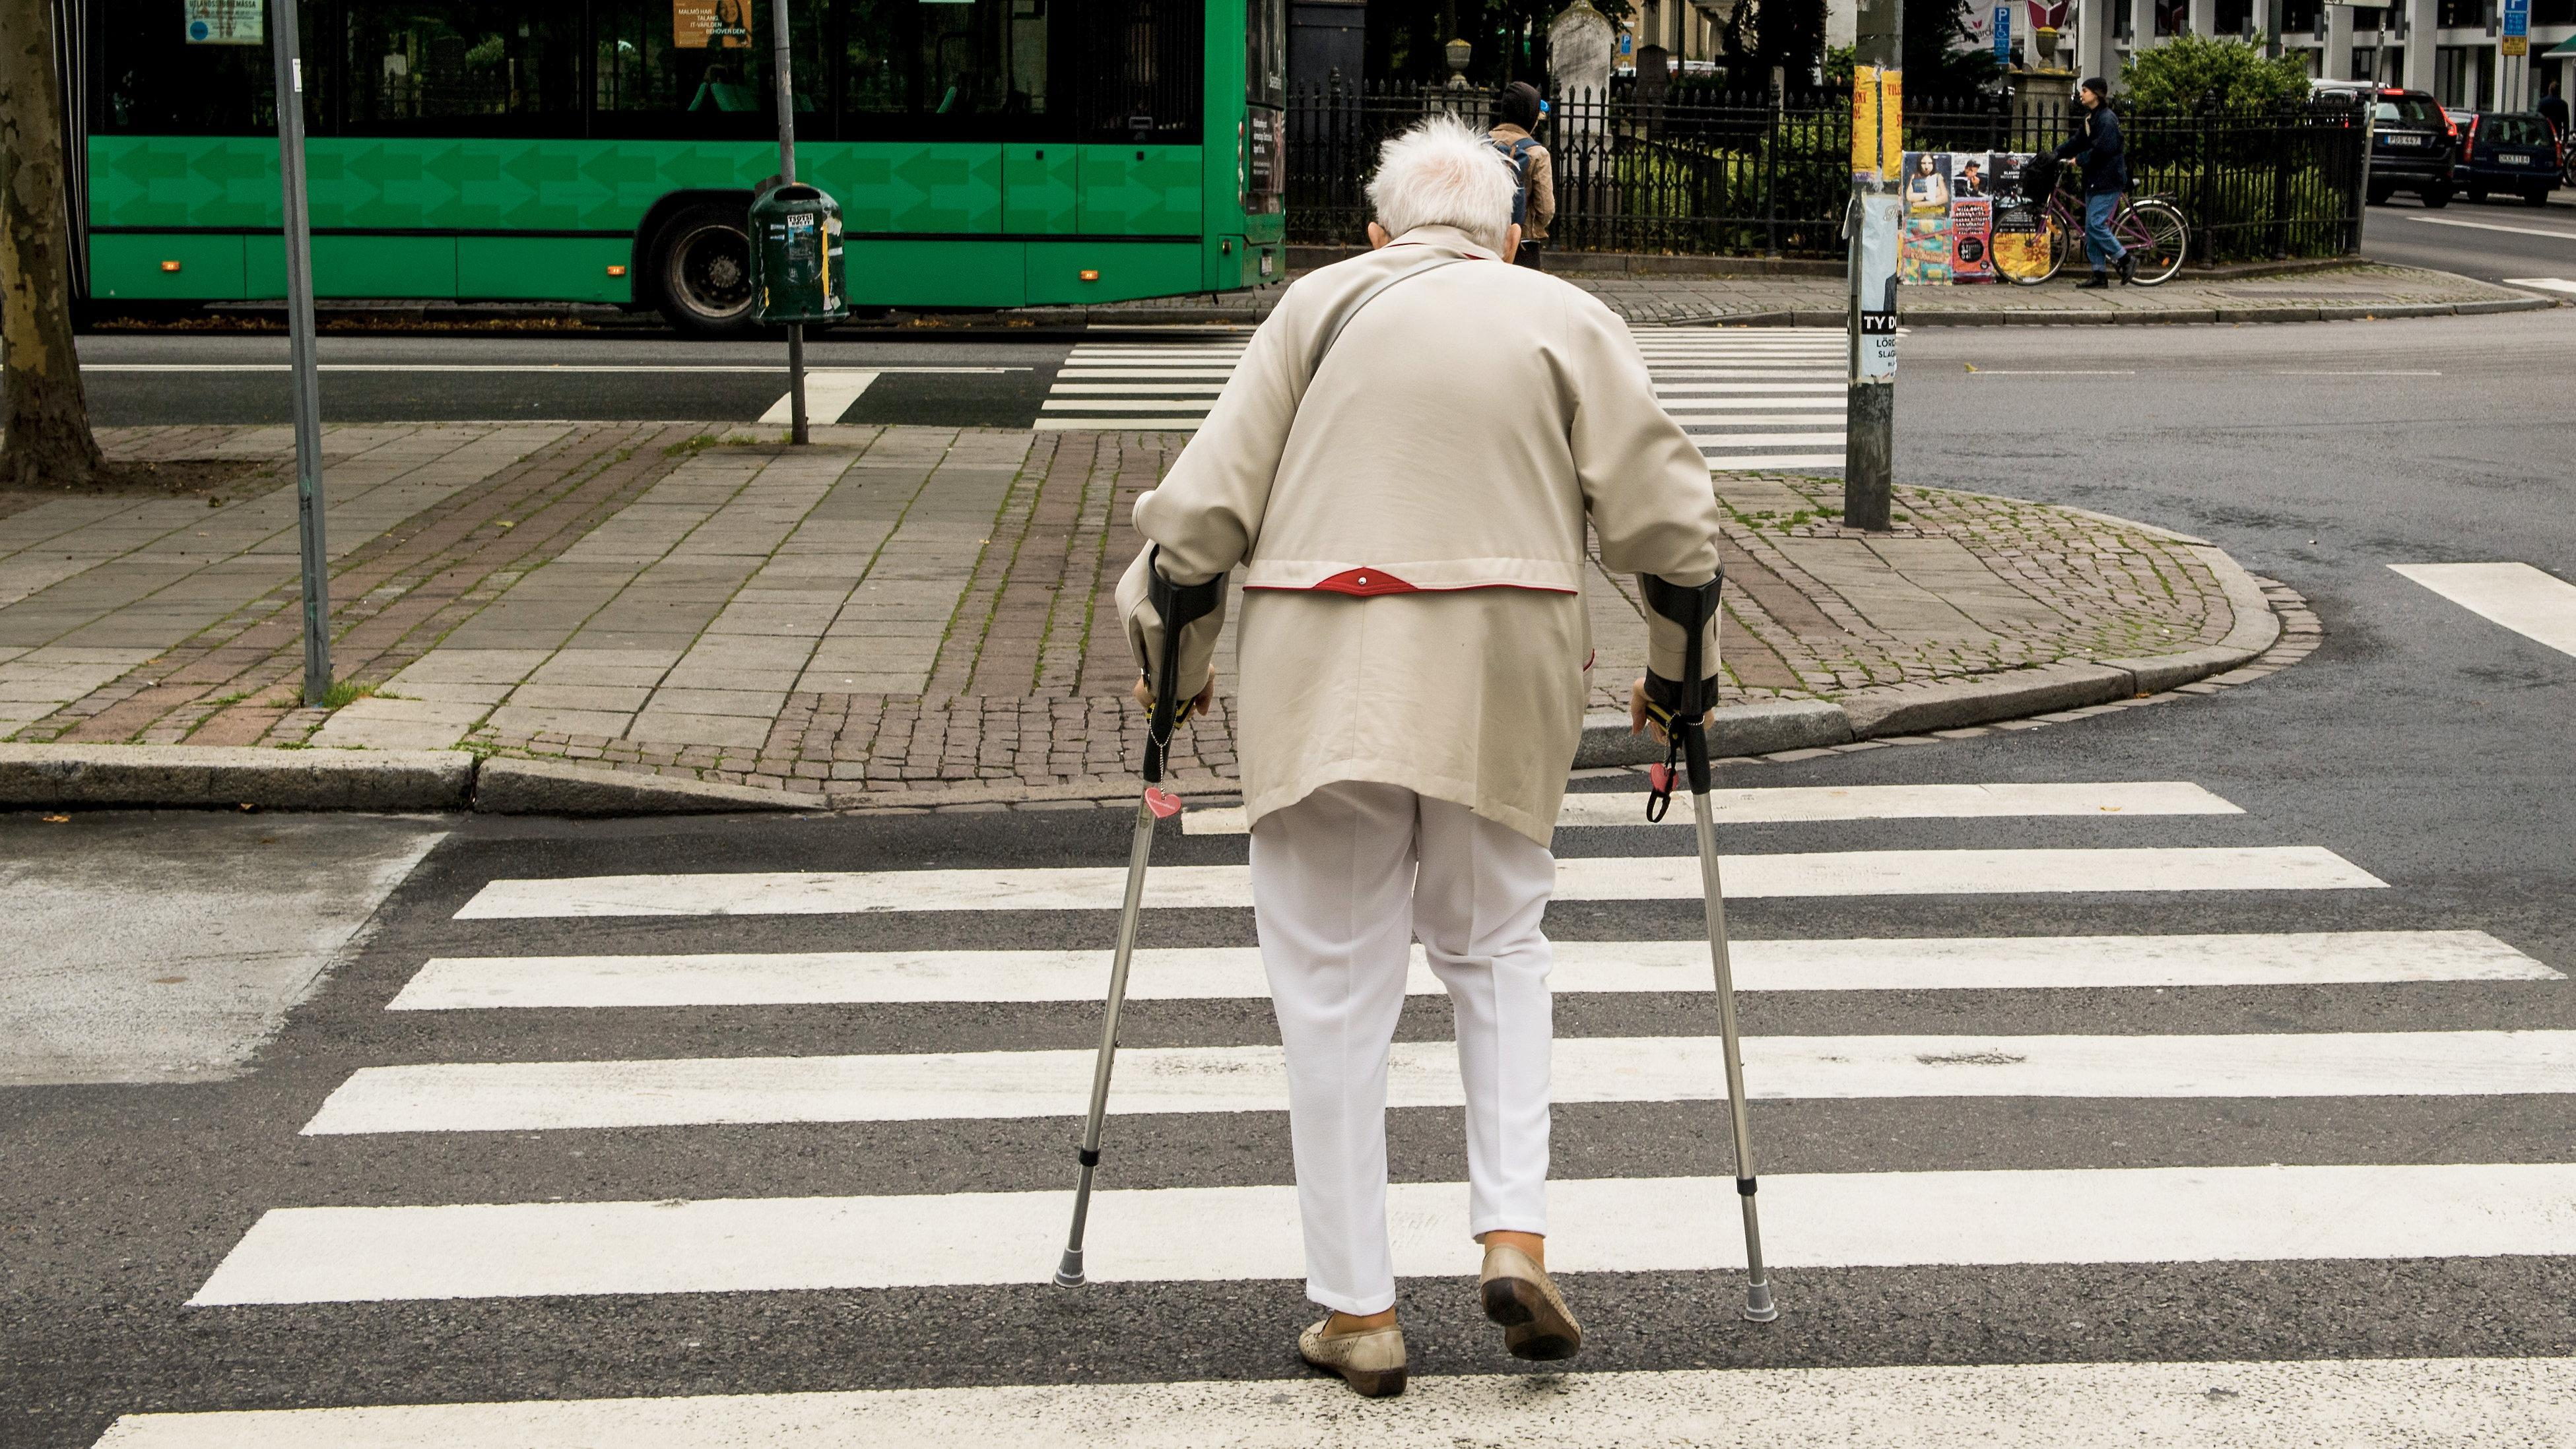crutches: (1028, 85, 1798, 1399)
